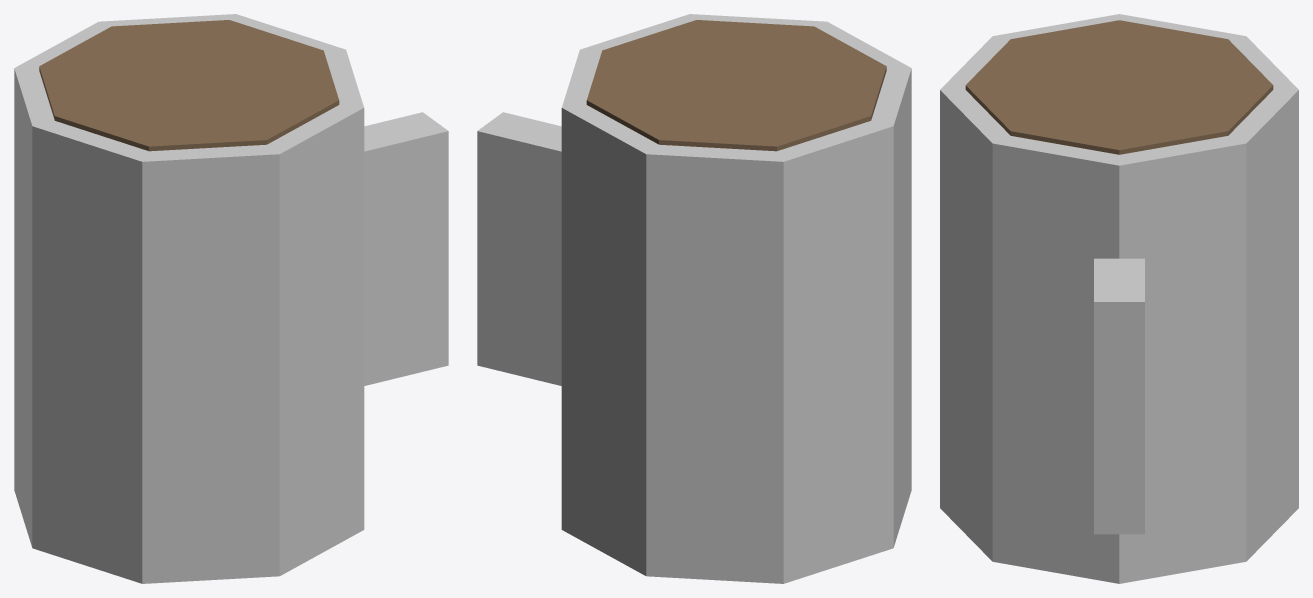
File: Esya_Kahve.glb
3 renders of one model, left to right at view 1: azimuth 30°, elevation 25°; view 2: azimuth 150°, elevation 25°; view 3: azimuth 270°, elevation 25°, orthographic.
Parts seen in each view (by area): view 1: Esya_Kahve; view 2: Esya_Kahve; view 3: Esya_Kahve.
Boxes of the visible parts, x1,y1,x2,y2 form: Esya_Kahve: (14,14,448,583); Esya_Kahve: (477,14,911,583); Esya_Kahve: (940,14,1298,583).
Bounding box in the file's own units: 0.09 × 0.091 × 0.07.
